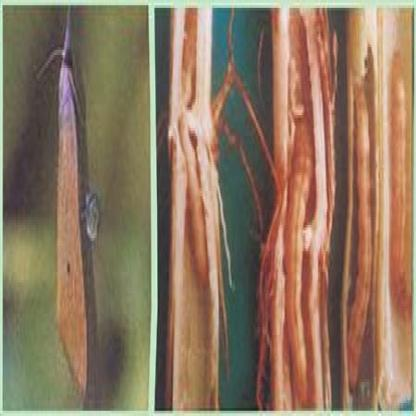stem-borer: (54, 5, 88, 406)
